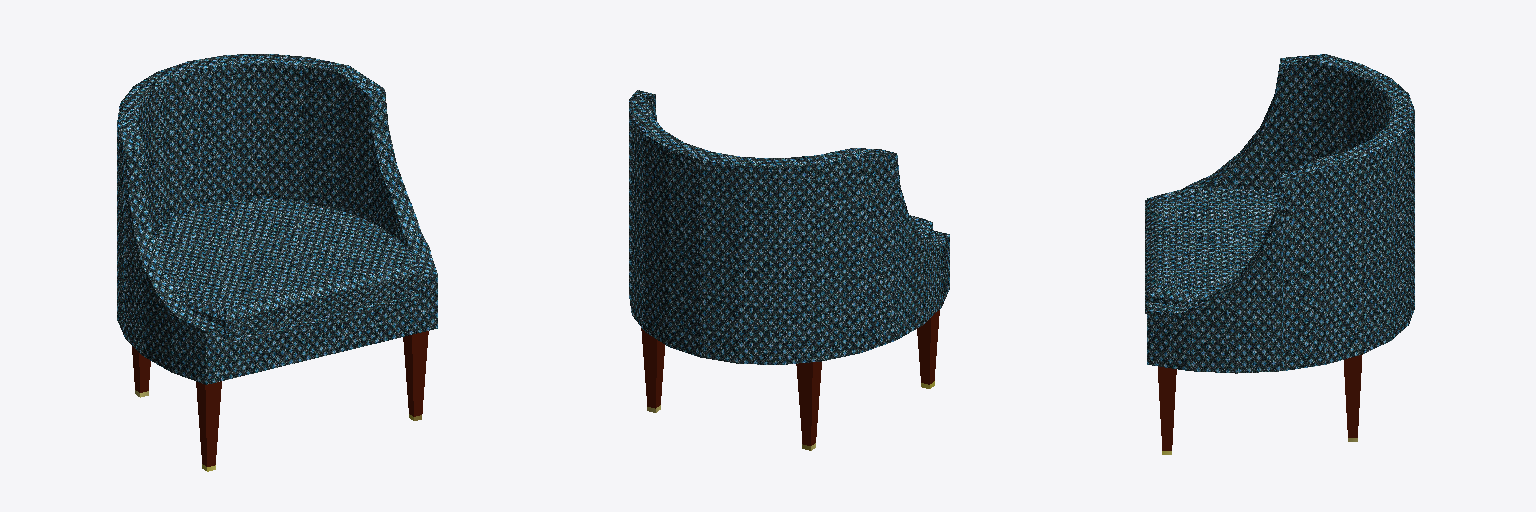
3 views of the same model, side by side, from view 1: azimuth 30°, elevation 25°; view 2: azimuth 150°, elevation 25°; view 3: azimuth 270°, elevation 25° (orthographic).
Parts seen in each view (by area): view 1: Proj_ChairRoundedBack_Arms-COM-Interior_Furn_ChairArm0203-39785-, Proj_ChairRoundedBack_Arms-GRP-36236-Carpet_Diamond_Red, Proj_ChairRoundedBack_Arms-COM-Group_1-36237-Wood_Cherry; view 2: Proj_ChairRoundedBack_Arms-COM-Interior_Furn_ChairArm0203-39785-, Proj_ChairRoundedBack_Arms-COM-Group_1-36237-Wood_Cherry; view 3: Proj_ChairRoundedBack_Arms-COM-Interior_Furn_ChairArm0203-39785-, Proj_ChairRoundedBack_Arms-GRP-36236-Carpet_Diamond_Red, Proj_ChairRoundedBack_Arms-COM-Group_1-36237-Wood_Cherry.
Boxes of the visible parts, box(x1,y1,x2,y2) form: Proj_ChairRoundedBack_Arms-COM-Interior_Furn_ChairArm0203-39785-: box(117, 54, 437, 384); Proj_ChairRoundedBack_Arms-GRP-36236-Carpet_Diamond_Red: box(152, 199, 420, 339); Proj_ChairRoundedBack_Arms-COM-Group_1-36237-Wood_Cherry: box(132, 331, 428, 466); Proj_ChairRoundedBack_Arms-COM-Interior_Furn_ChairArm0203-39785-: box(629, 90, 949, 364); Proj_ChairRoundedBack_Arms-COM-Group_1-36237-Wood_Cherry: box(641, 310, 939, 445); Proj_ChairRoundedBack_Arms-COM-Interior_Furn_ChairArm0203-39785-: box(1147, 54, 1414, 373); Proj_ChairRoundedBack_Arms-GRP-36236-Carpet_Diamond_Red: box(1145, 189, 1277, 313); Proj_ChairRoundedBack_Arms-COM-Group_1-36237-Wood_Cherry: box(1158, 354, 1362, 450).
Bounding box in the file's own units: 0.7925 × 0.8287 × 0.6921.
3 materials, 2 textured.